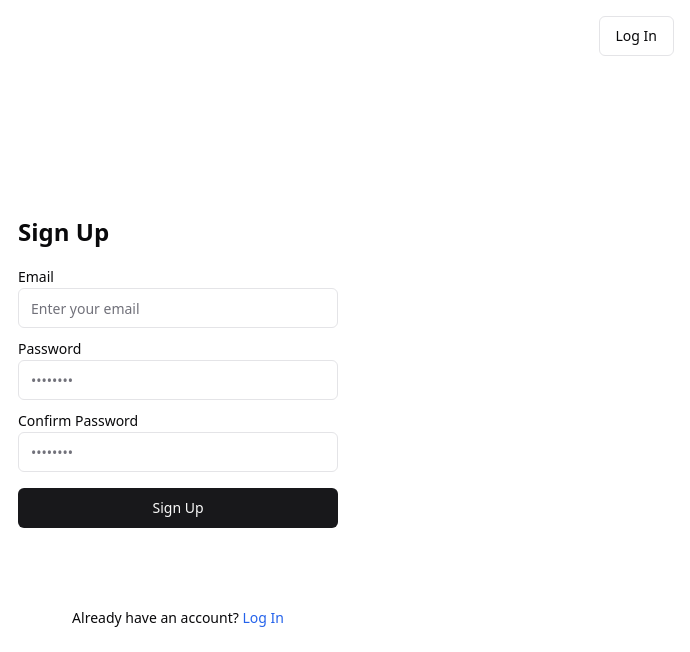
Test: Sign Up Flow › Validates password confirmation
Type "Password123" into the password field named "password" at (178, 380), box [18,360,338,400]
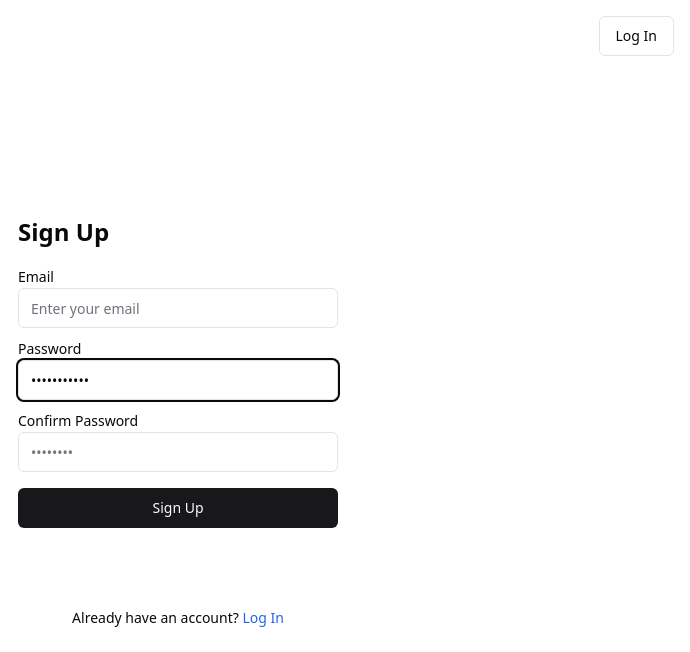
Type "DifferentPassword" into the password field named "confirmPassword" at (178, 452), box [18,432,338,472]
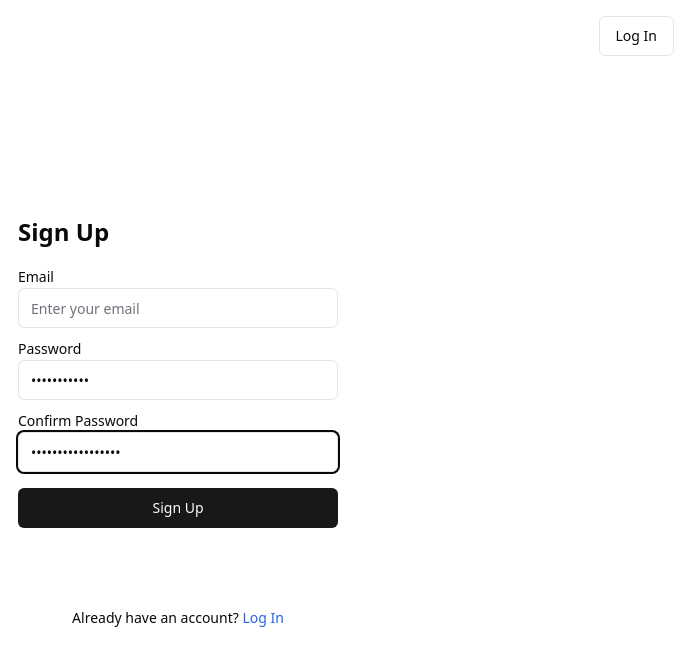
Click the submit button at (178, 508), box [18,488,338,528]
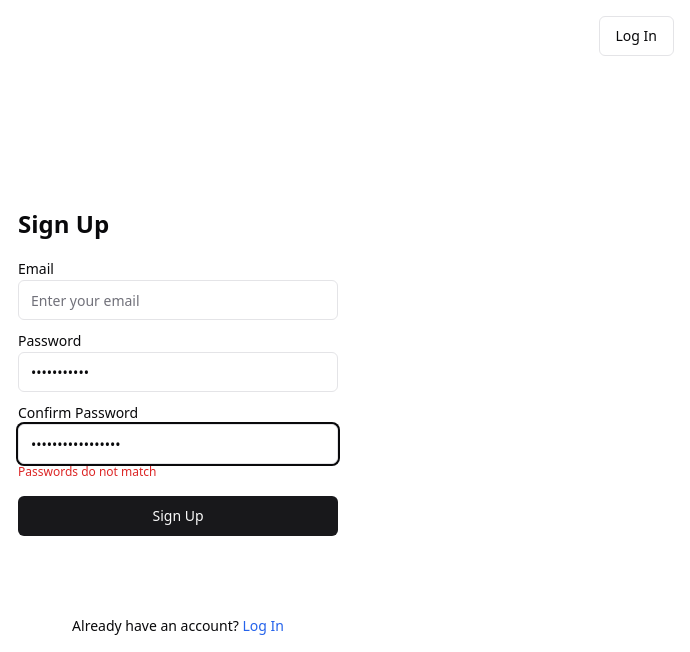
Result: the text "Passwords do not match" is shown at [18,463,156,480]
